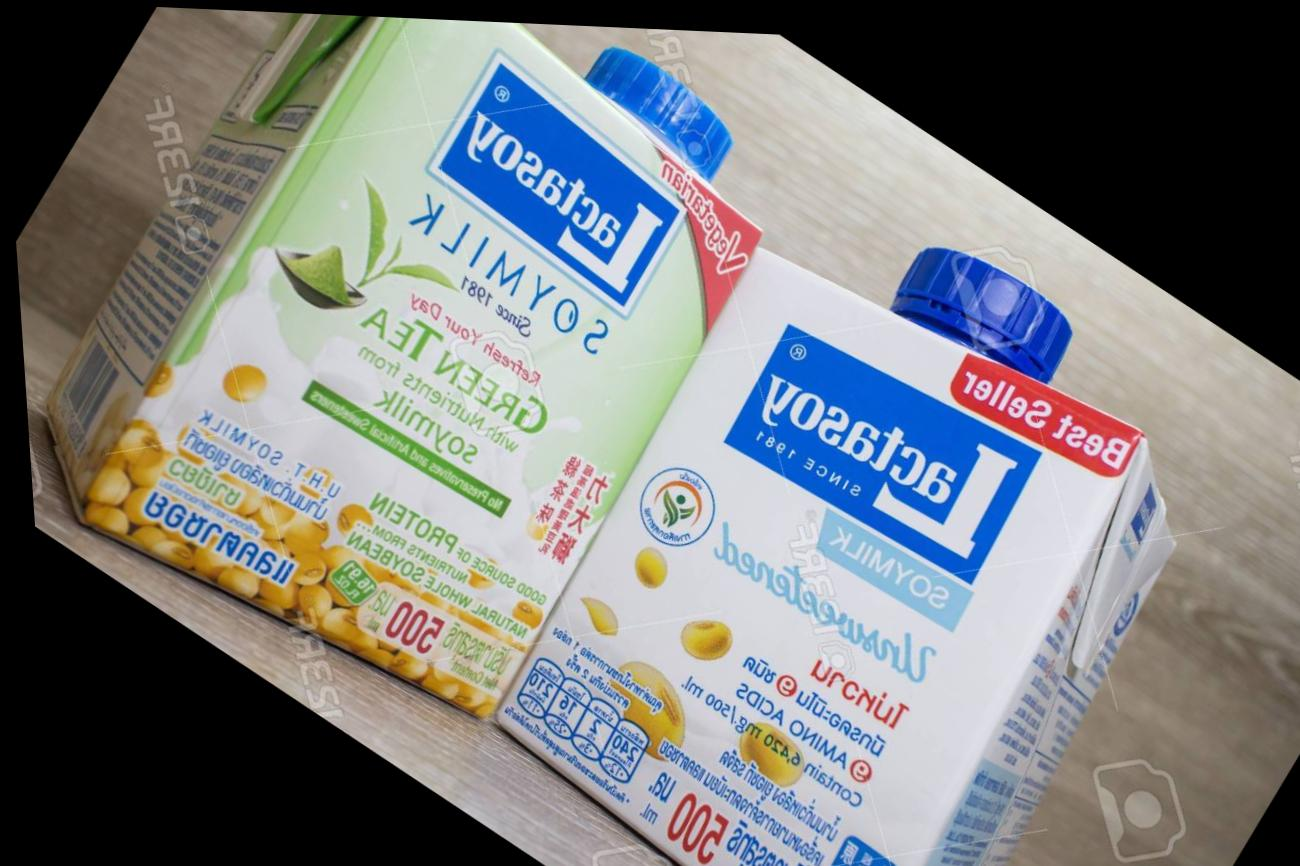cardboard: (22, 11, 725, 715), (497, 249, 1299, 865)
